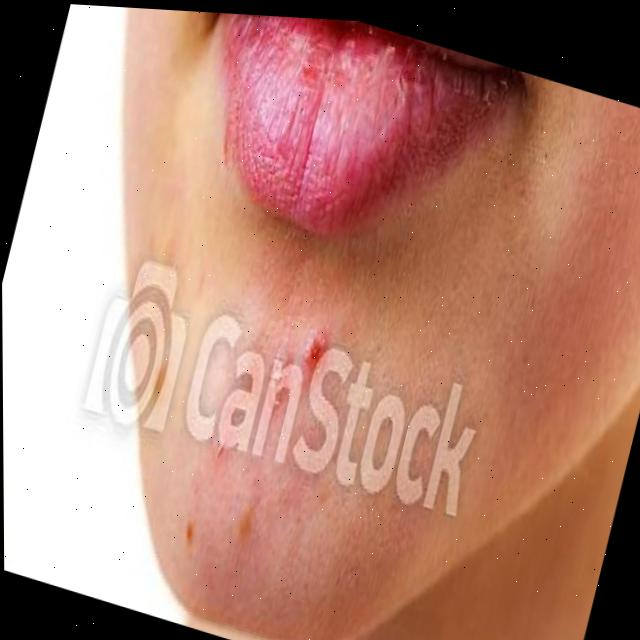Acne: (224, 290, 357, 557)
